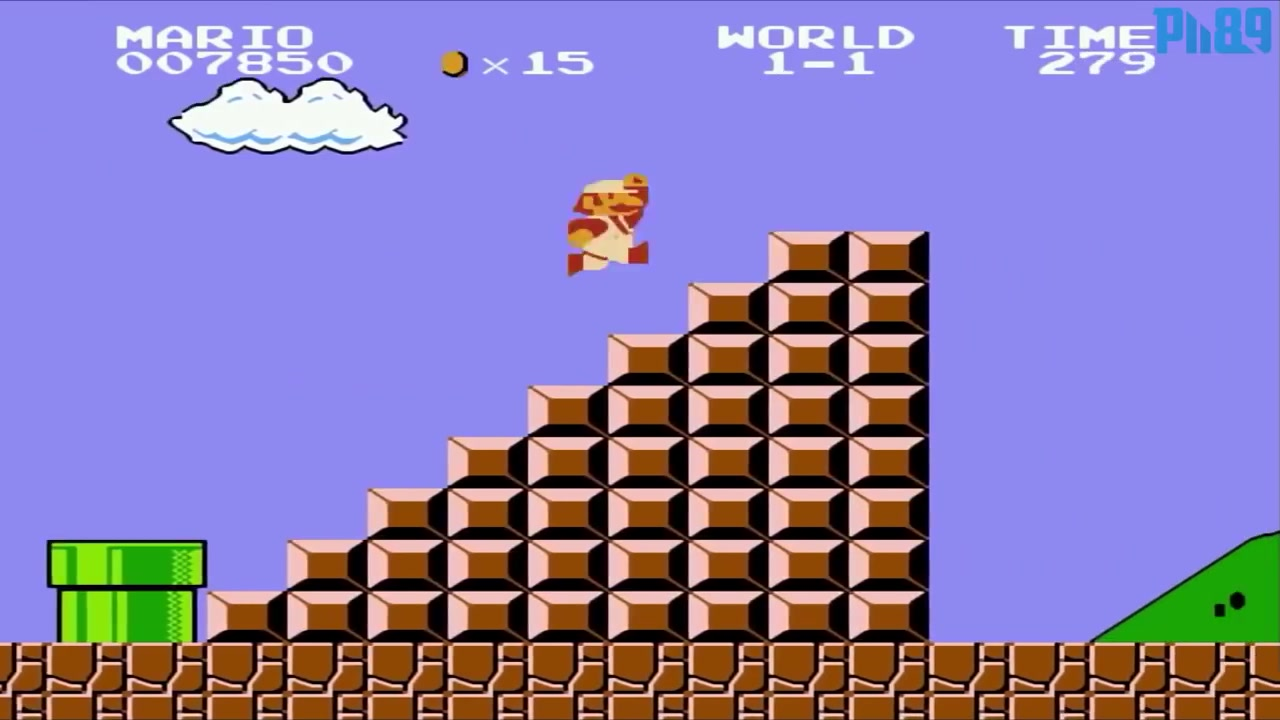mario: (562, 168, 676, 274)
